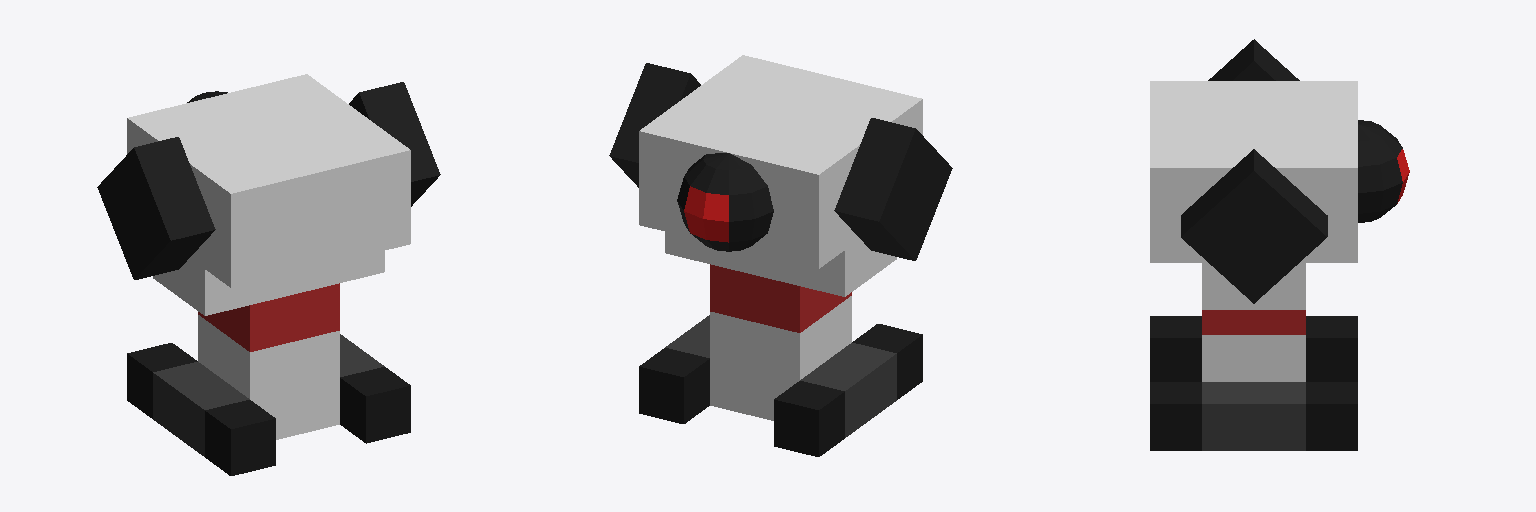
The picture shows the model from 3 angles: view 1: azimuth 30°, elevation 25°; view 2: azimuth 150°, elevation 25°; view 3: azimuth 270°, elevation 25°; orthographic projection.
Parts seen in each view (by area): view 1: cube; view 2: cube, sphere; view 3: cube, sphere.
Boxes of the visible parts, box(x1,y1,x2,y2) form: cube: box(97, 74, 440, 475); cube: box(609, 55, 952, 456); sphere: box(677, 153, 773, 251); cube: box(1150, 39, 1357, 450); sphere: box(1358, 120, 1409, 222).
Size of the model in its own units: 0.375 by 0.4009 by 0.3125.
Materials: 1 (1 with a texture image).